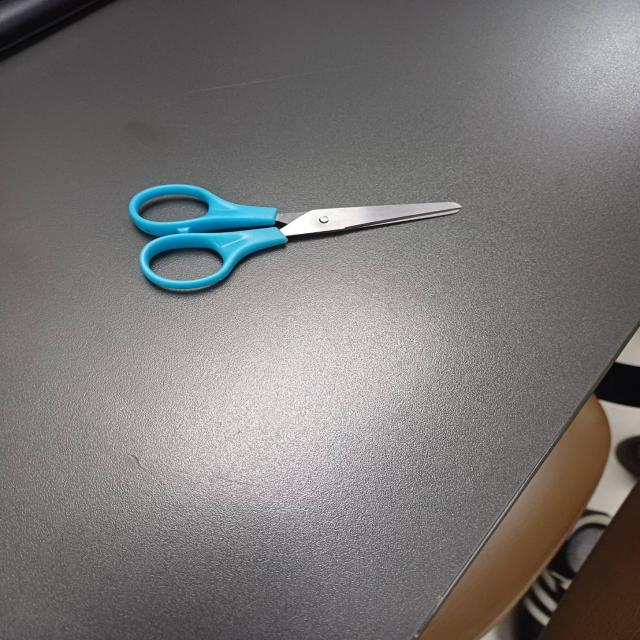scissors: (117, 174, 467, 308)
